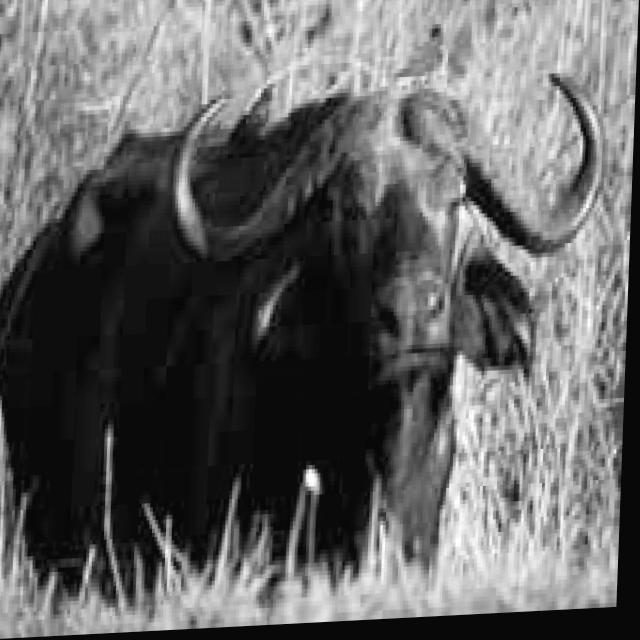Buffalo: (0, 71, 608, 614)
